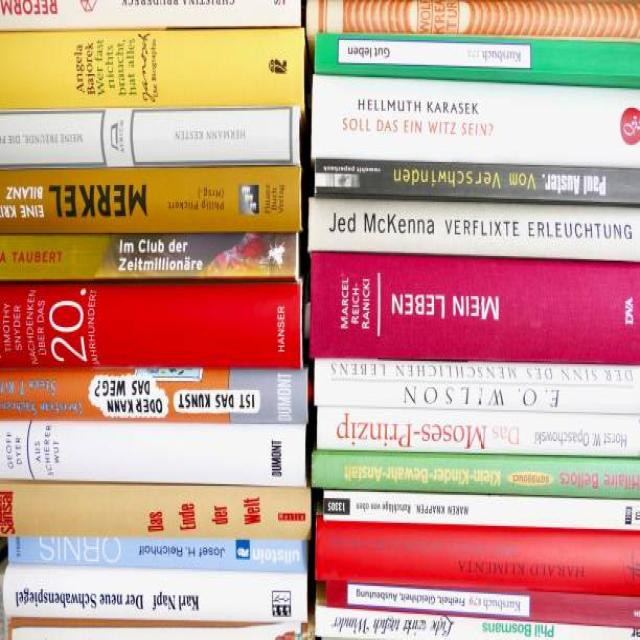book: (313, 74, 639, 196), (305, 252, 638, 362), (314, 516, 638, 593), (0, 420, 310, 492), (310, 198, 639, 261), (0, 483, 313, 546), (312, 28, 634, 87), (0, 168, 303, 230), (323, 561, 639, 620), (315, 360, 639, 415), (4, 570, 308, 627), (318, 409, 639, 457), (316, 160, 639, 207), (0, 231, 296, 281), (7, 567, 308, 616), (308, 454, 639, 497), (322, 493, 639, 529)
